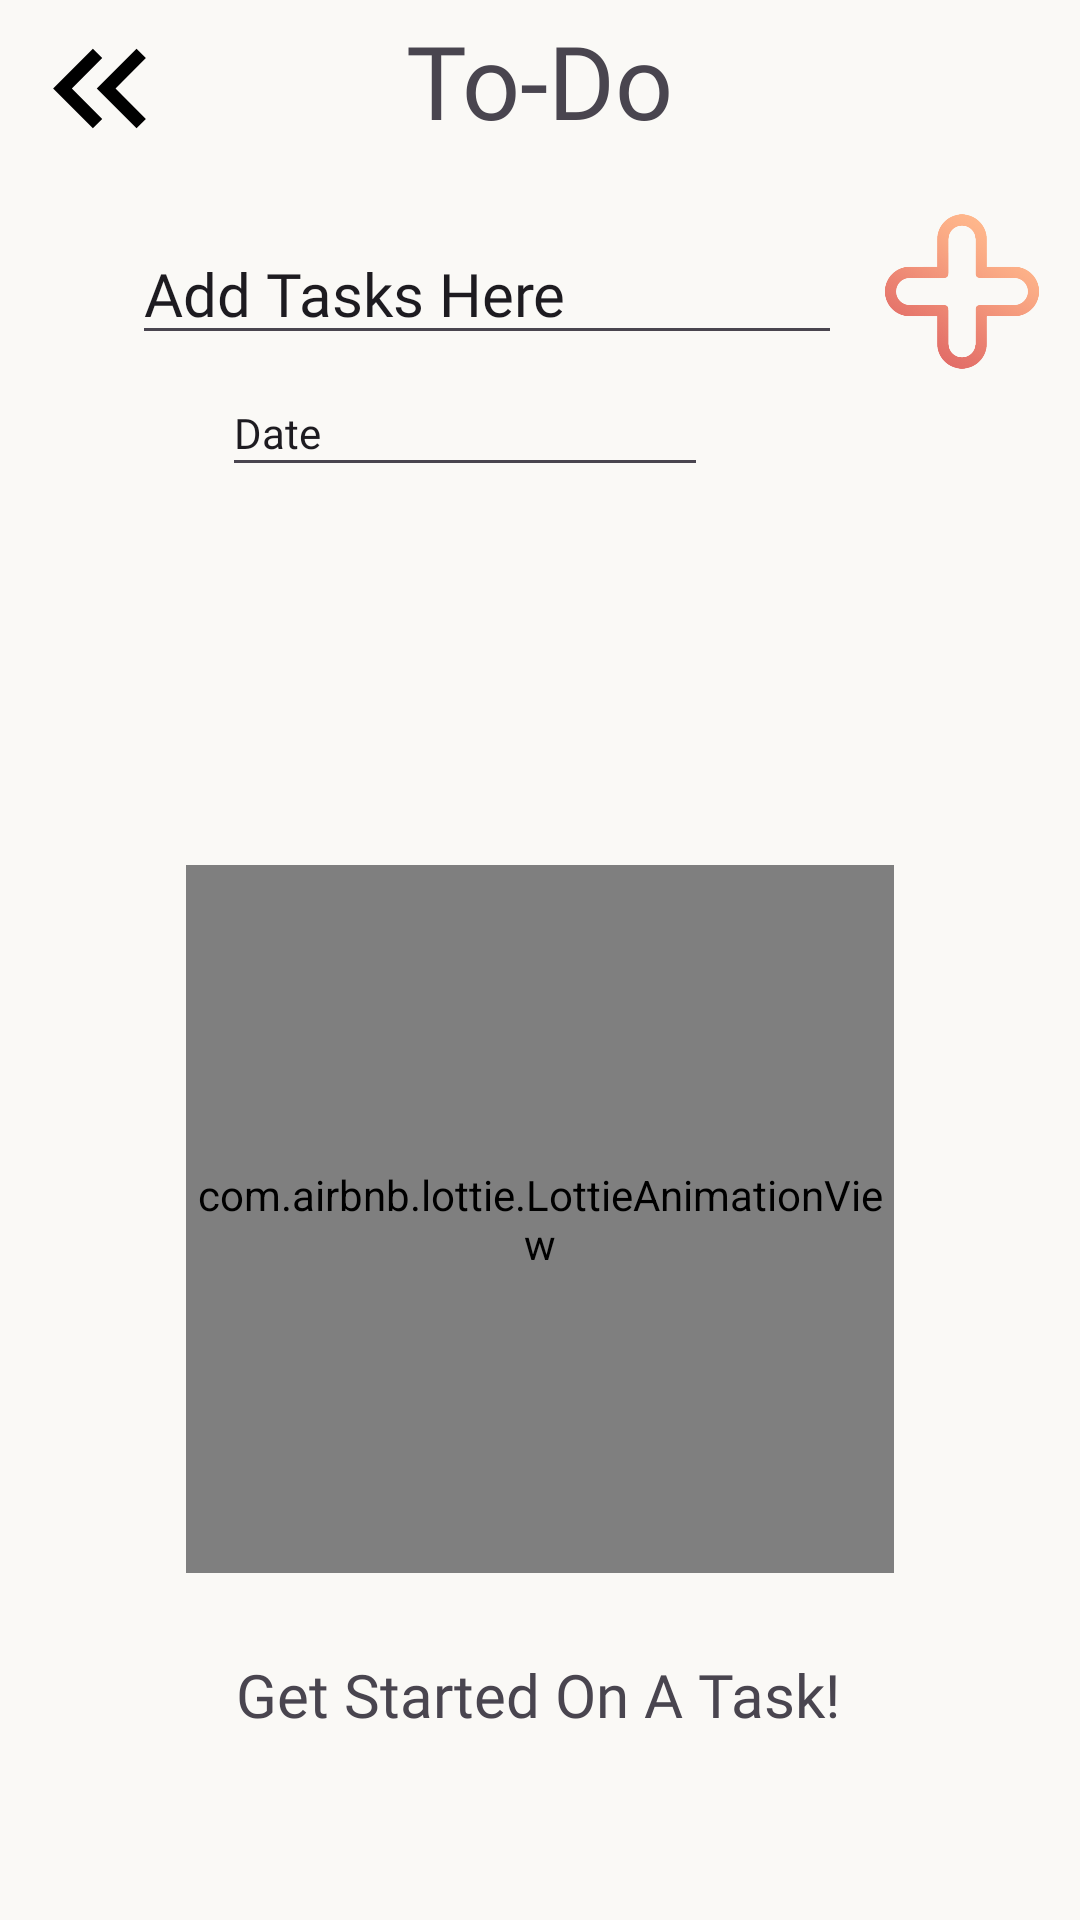

Named icons in this screenshot (1080px×1920px) and their bounding boxes, bbox=[x1, y1, x2, y2]:
keyboard double arrow left: bbox=[53, 49, 146, 128]
plusicon: bbox=[885, 214, 1039, 369]
